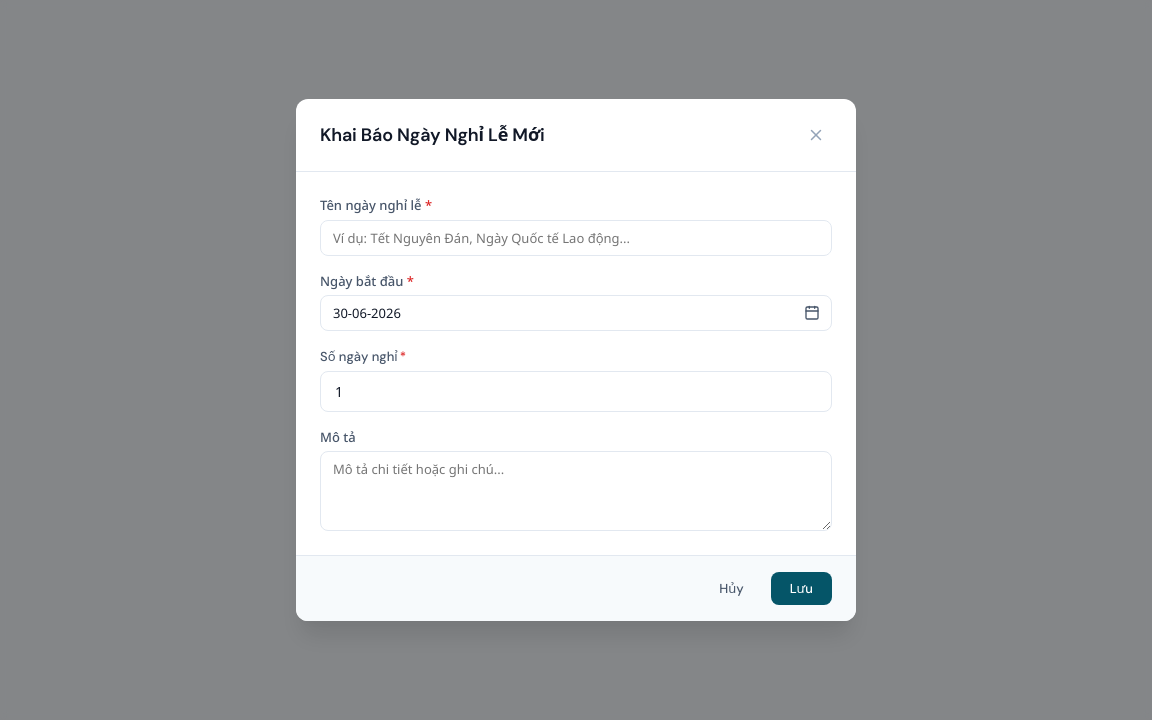
Test: PublicHolidayFormModal › validates required fields
The width and height of the screenshot is (1152, 720).
Clear name
Clear the field labelled "Tên ngày nghỉ lễ *". click: (576, 238)
box: [320,220,832,256]
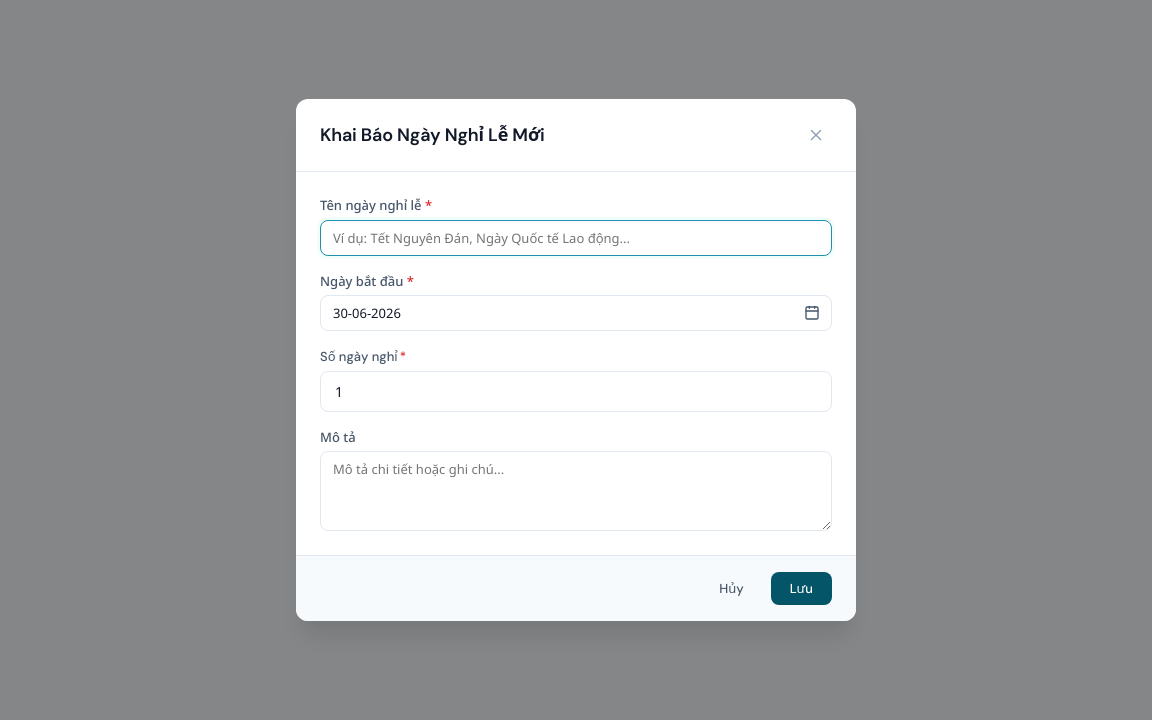
Clear days
Clear the number field labelled "Số ngày nghỉ*". click: (576, 391)
box: [320,370,832,412]
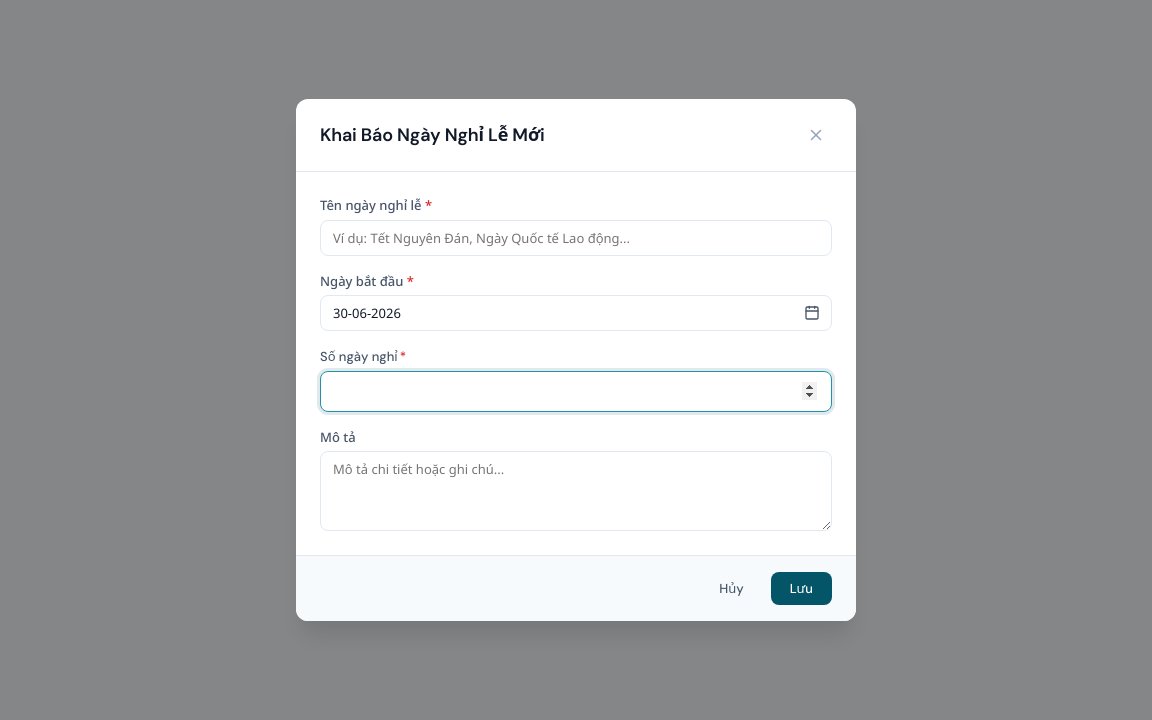
Click the button "Lưu". click: click(801, 588)
box: [771,572,832,605]
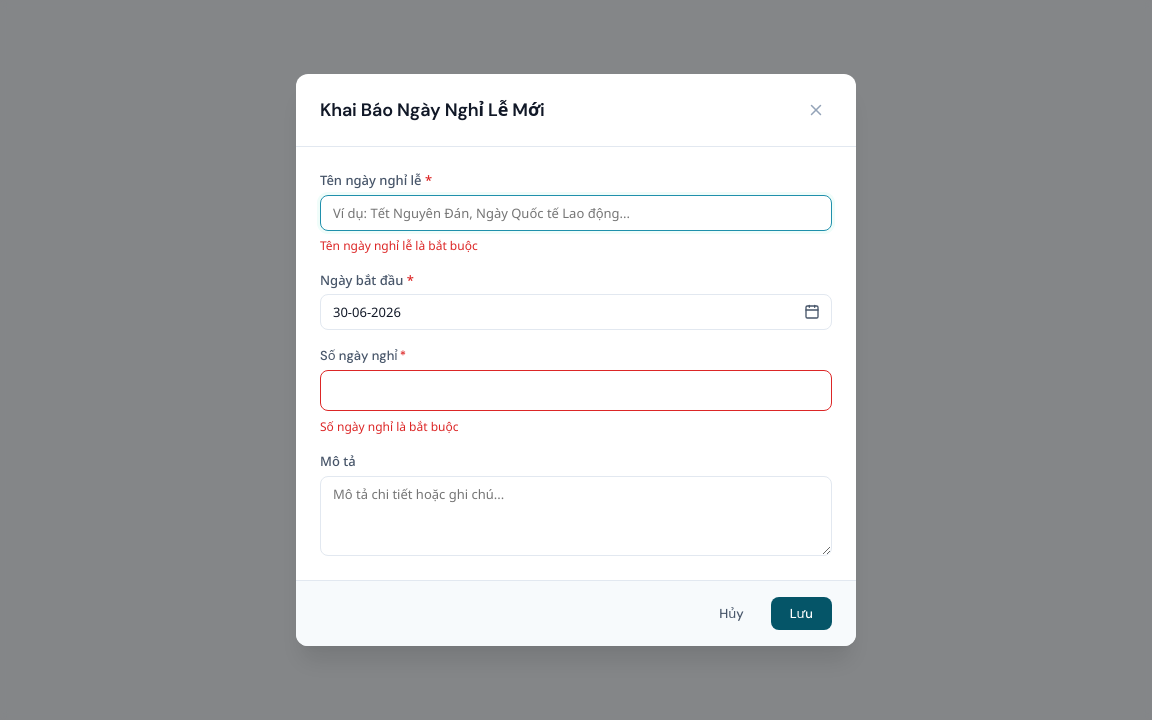
Expected: the text "Tên ngày nghỉ lễ là bắt buộc" is shown, [320,237,478,254]
Expected: the text "Số ngày nghỉ là bắt buộc" is shown, [320,418,458,435]
